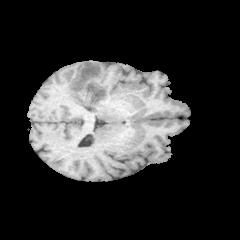glioma: (69, 63, 108, 107)
